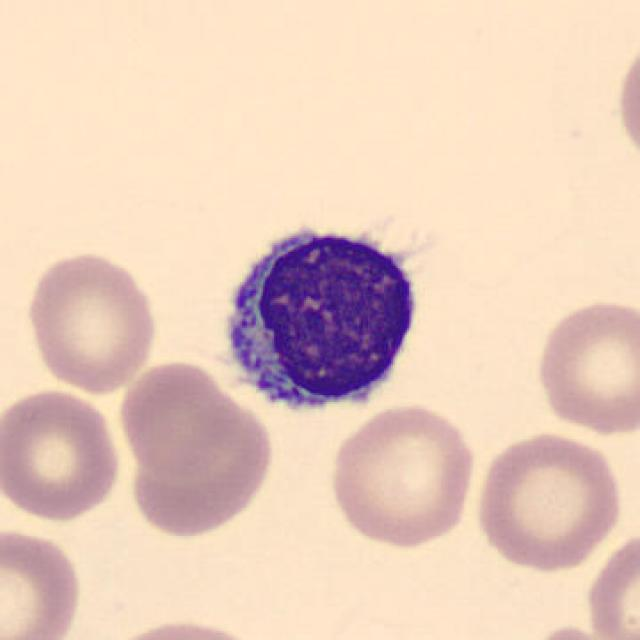Lymphocyte: (208, 206, 434, 427)
RBC: (123, 378, 277, 542), (325, 401, 480, 548), (471, 428, 626, 575), (21, 247, 162, 397), (0, 384, 126, 526), (116, 358, 246, 481), (530, 293, 638, 439), (0, 522, 85, 640), (582, 525, 638, 640), (96, 613, 272, 640), (611, 26, 640, 176), (514, 622, 636, 640)
